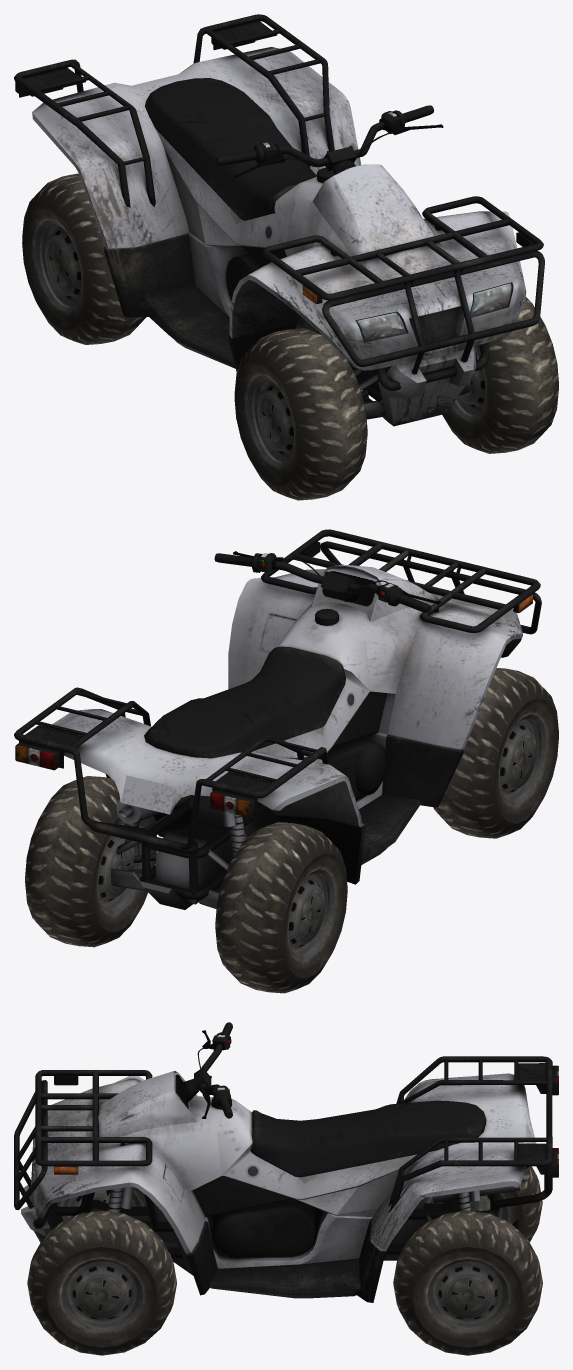
The model's file is quad_bike_3d.glb.
3 renders of one model, top to bottom at view 1: azimuth 30°, elevation 25°; view 2: azimuth 150°, elevation 25°; view 3: azimuth 270°, elevation 25°, orthographic. The views are drawn at different scales.
Visible parts, largest first — view 1: Body, Wheel, Wheel2, Wheel4, Parts, Handle, Lights; view 2: Body, Wheel2, Wheel3, Wheel, Parts, Handle, Lights; view 3: Body, Wheel3, Wheel4, Parts, Handle, Wheel2, Wheel.
Part boxes in pixels (x1=…): Body: x1=14, y1=14, x2=544, y2=426; Wheel: x1=234, y1=328, x2=367, y2=500; Wheel2: x1=22, y1=173, x2=146, y2=344; Wheel4: x1=442, y1=297, x2=558, y2=453; Parts: x1=284, y1=164, x2=421, y2=256; Handle: x1=216, y1=105, x2=443, y2=177; Lights: x1=211, y1=37, x2=511, y2=341; Body: x1=14, y1=529, x2=541, y2=909; Wheel2: x1=215, y1=822, x2=347, y2=993; Wheel3: x1=25, y1=776, x2=156, y2=947; Wheel: x1=433, y1=668, x2=558, y2=838; Parts: x1=121, y1=565, x2=413, y2=814; Handle: x1=214, y1=551, x2=440, y2=613; Lights: x1=15, y1=745, x2=250, y2=817; Body: x1=14, y1=1056, x2=557, y2=1302; Wheel3: x1=393, y1=1210, x2=542, y2=1355; Wheel4: x1=27, y1=1210, x2=176, y2=1355; Parts: x1=111, y1=1071, x2=536, y2=1190; Handle: x1=178, y1=1022, x2=232, y2=1118; Wheel2: x1=424, y1=1166, x2=542, y2=1242; Wheel: x1=27, y1=1187, x2=147, y2=1242.
Bounding box in the file's own units: 101 × 104 × 205.
2 materials, 2 textured.
